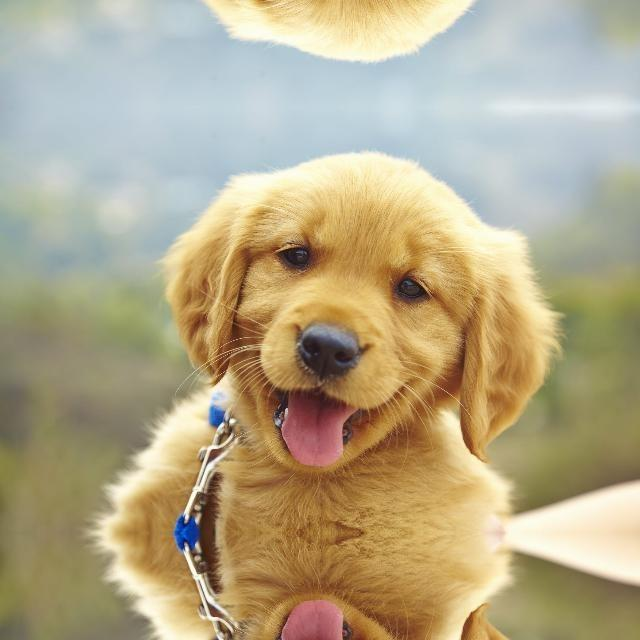dog: (146, 138, 584, 480), (146, 0, 583, 74), (146, 584, 583, 640)
